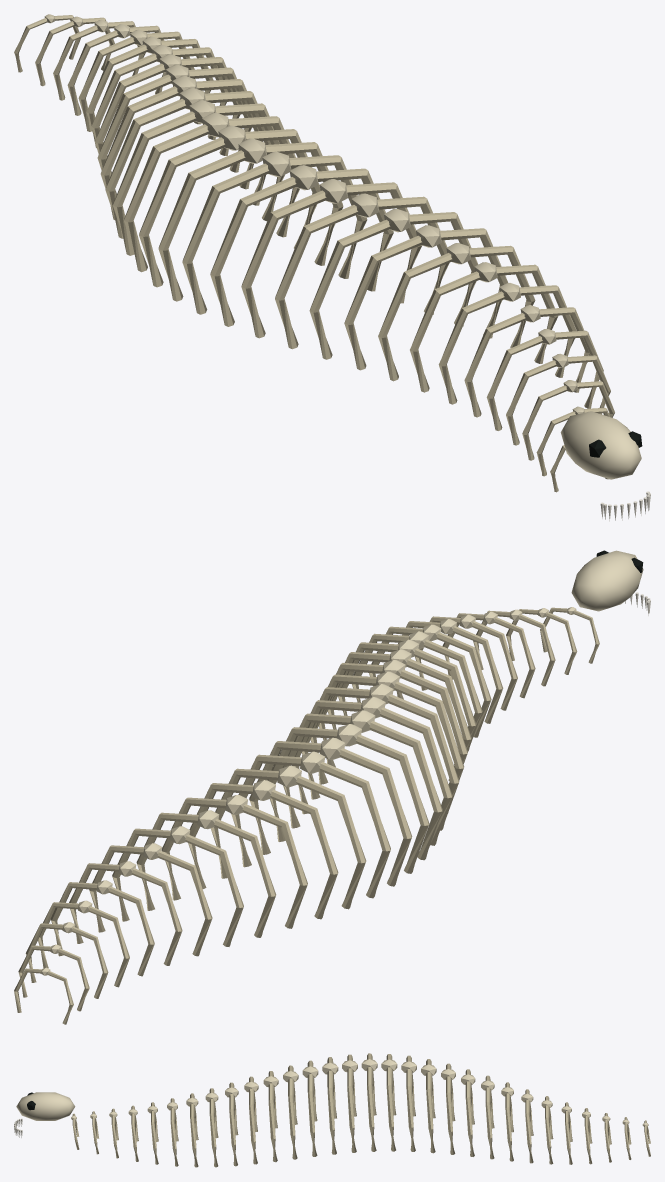
Rendered from wyrm_spine.glb.
3 views of the same model, one above another, from view 1: azimuth 30°, elevation 25°; view 2: azimuth 150°, elevation 25°; view 3: azimuth 270°, elevation 25° (orthographic). The views are drawn at different scales.
Parts seen in each view (by area): view 1: wyrm_spine; view 2: wyrm_spine; view 3: wyrm_spine.
Boxes of the visible parts, bbox=[...] form: wyrm_spine: bbox=[14, 14, 650, 521]; wyrm_spine: bbox=[14, 550, 650, 1024]; wyrm_spine: bbox=[14, 1053, 650, 1167].
Bounding box in the file's own units: 20.25 × 11.66 × 90.47.
